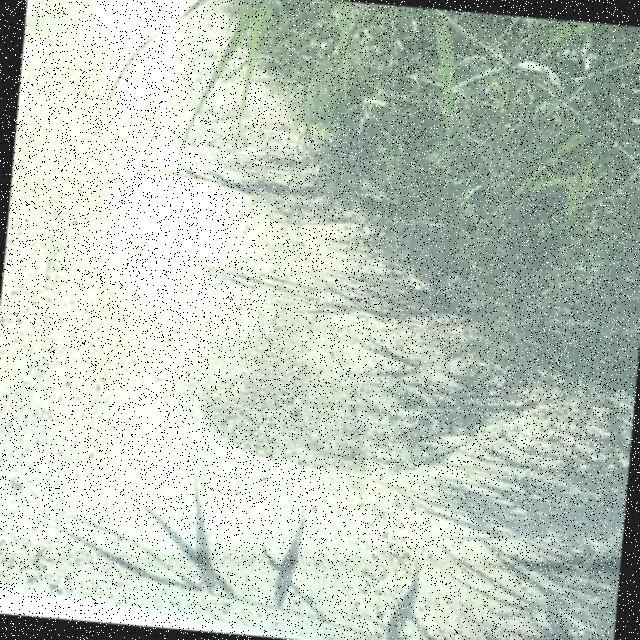Pothole: (209, 375, 428, 470)
